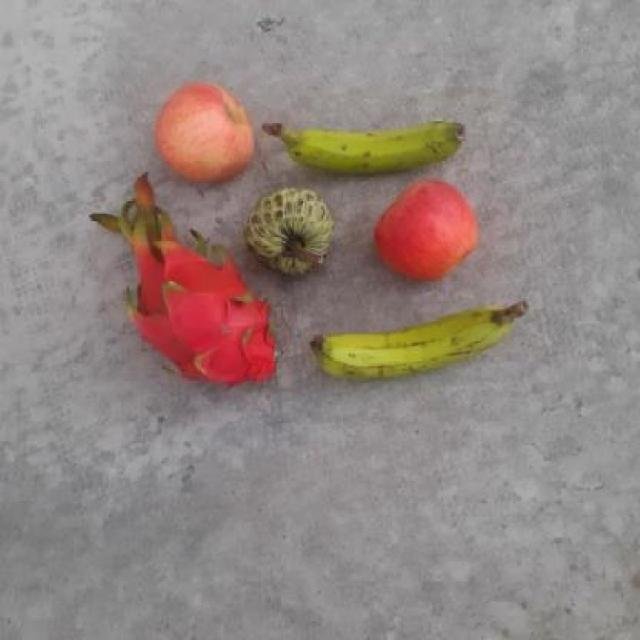apple: (370, 173, 481, 284), (149, 80, 257, 185)
banana: (306, 297, 516, 388), (275, 110, 471, 184)
dragon fruit: (121, 248, 284, 392)
sugar apple: (238, 181, 334, 277)
